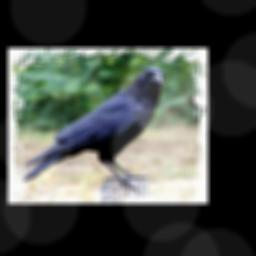Crow: (20, 66, 168, 194)
